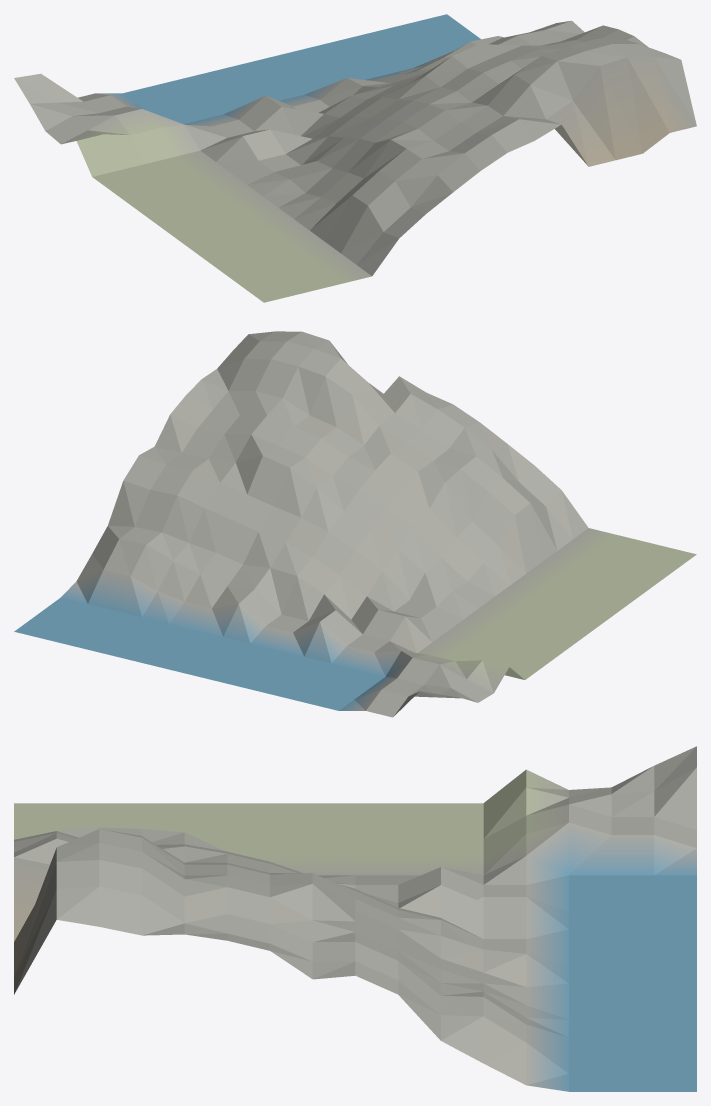
3 views of the same model, one above another, from view 1: azimuth 30°, elevation 25°; view 2: azimuth 150°, elevation 25°; view 3: azimuth 270°, elevation 25° (orthographic). The views are drawn at different scales.
Size of the model in its own units: 32 by 10.13 by 32.
